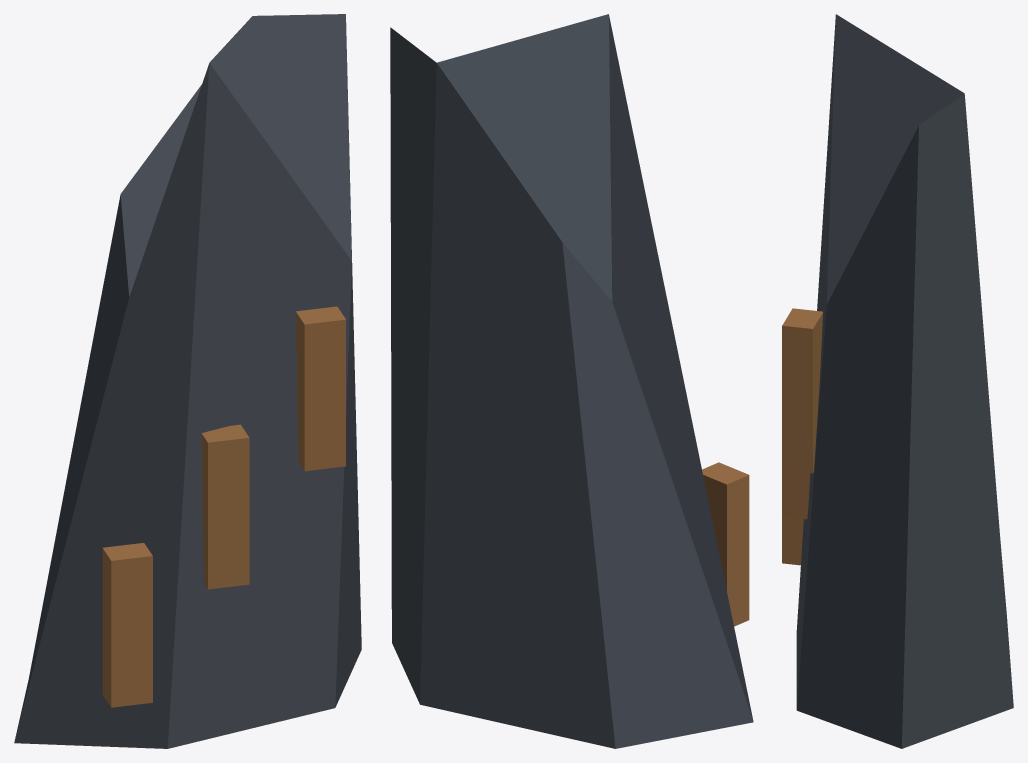
The model's file is map-boundaries-v5__iron_09.glb.
3 views of the same model, side by side, from view 1: azimuth 30°, elevation 25°; view 2: azimuth 150°, elevation 25°; view 3: azimuth 270°, elevation 25° (orthographic).
Visible parts, largest first — view 1: iron_09; view 2: iron_09; view 3: iron_09.
Part boxes in pixels (<box>): iron_09: <box>14,14,361,748</box>; iron_09: <box>390,14,753,748</box>; iron_09: <box>782,14,1013,748</box>.
Bounding box in the file's own units: 1.14 × 2.01 × 0.6546.
